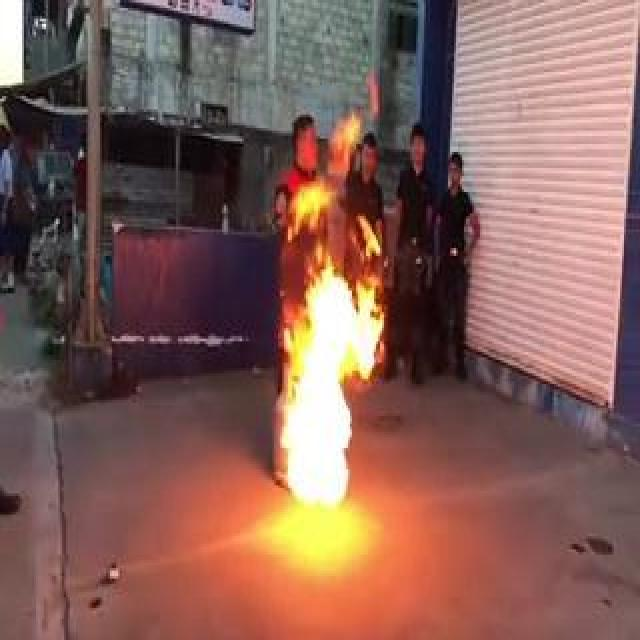Fire: (268, 184, 392, 509)
